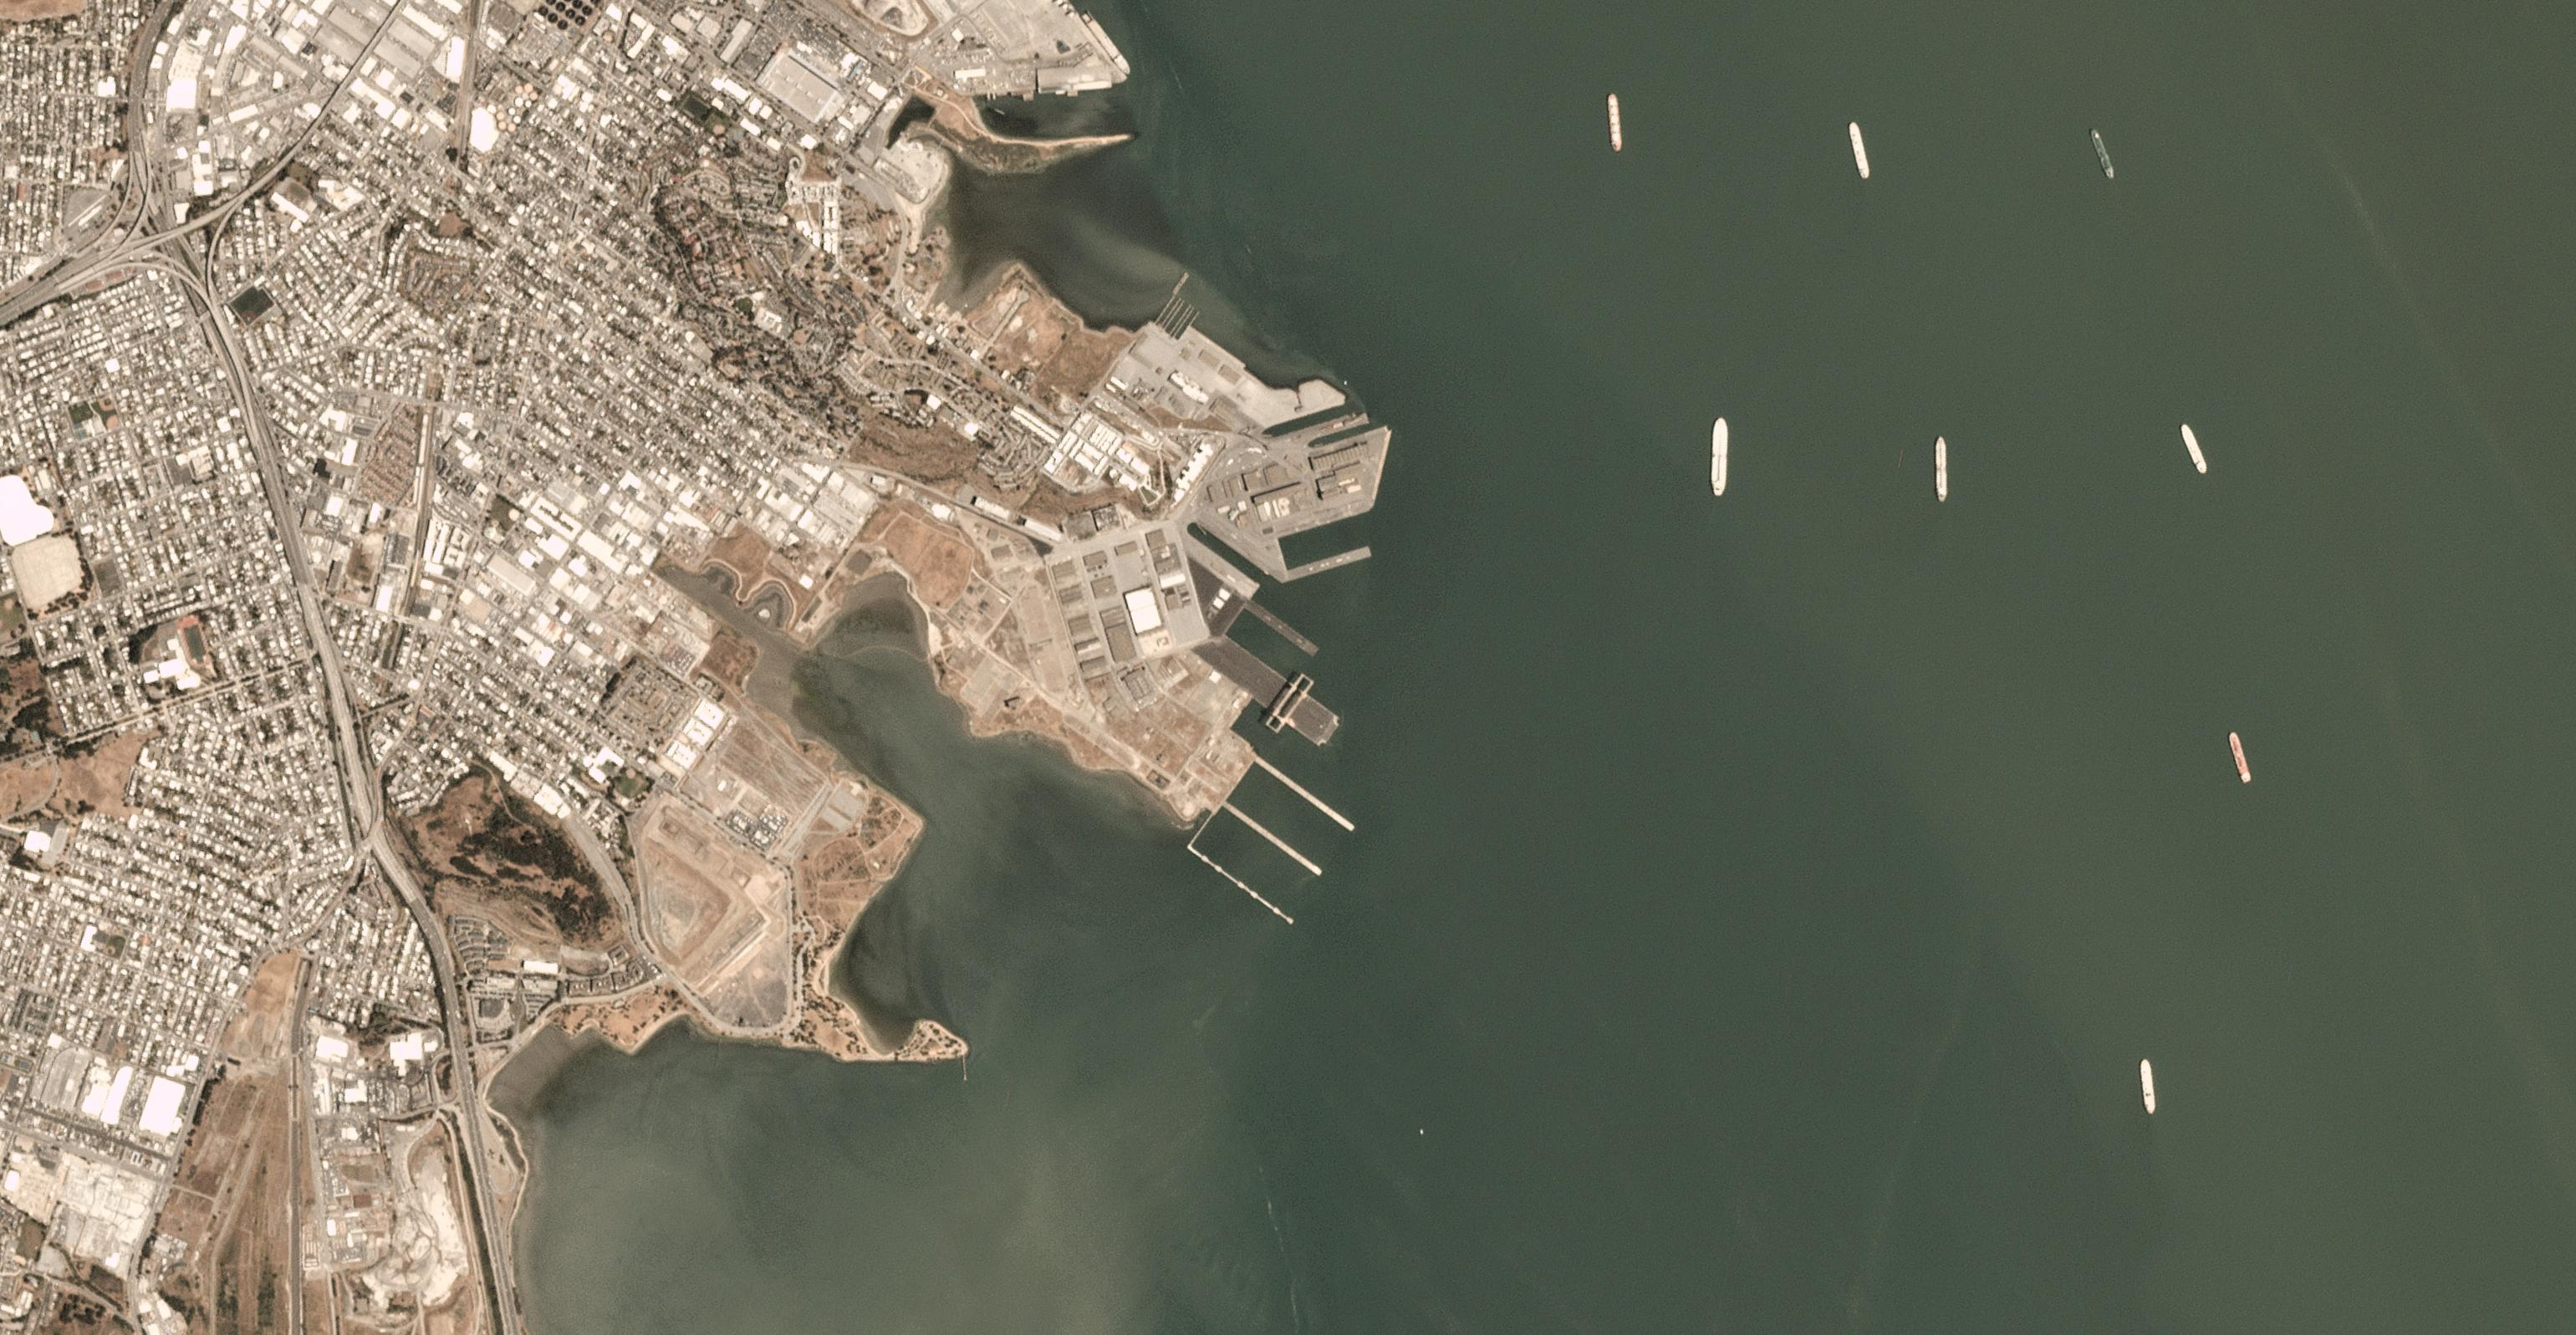ship: (1708, 412, 1735, 497), (2087, 124, 2125, 186), (2048, 421, 2084, 477), (2225, 63, 2256, 116), (2135, 1059, 2162, 1114), (1801, 395, 1829, 407), (1602, 119, 1629, 121), (1846, 148, 1875, 148)
